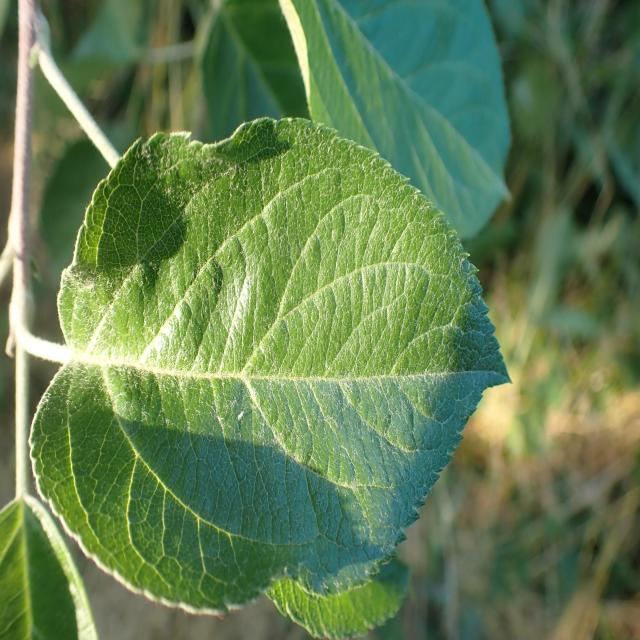healthy: (28, 117, 514, 619), (278, 0, 512, 239), (0, 494, 99, 640), (265, 552, 413, 640)
